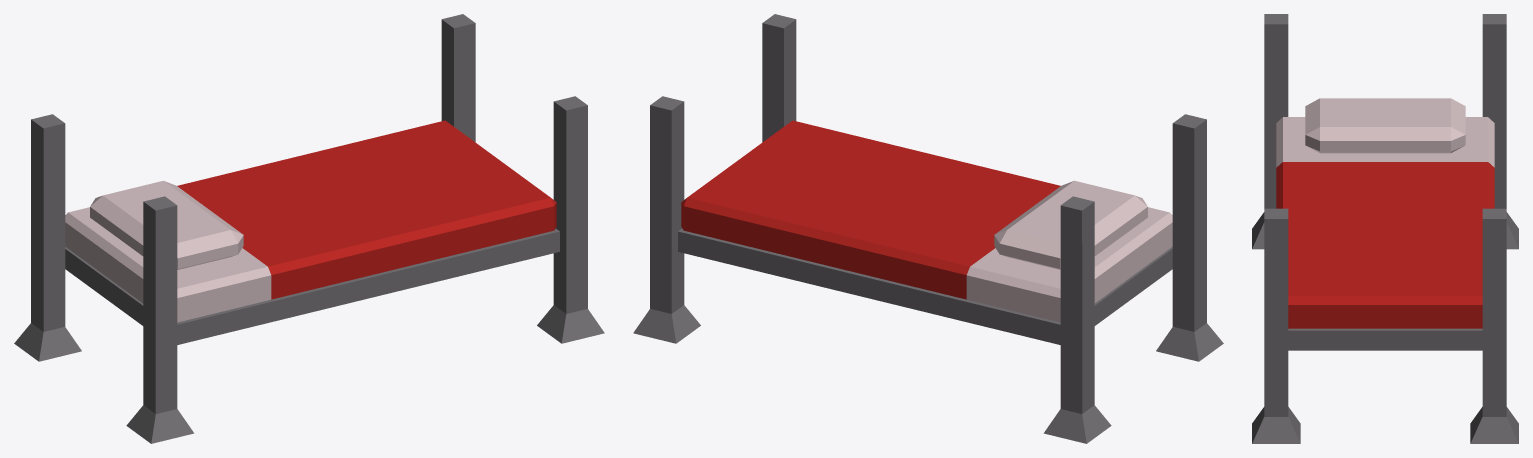
Rendered from scifi_bed.fbx.
3 views of the same model, side by side, from view 1: azimuth 30°, elevation 25°; view 2: azimuth 150°, elevation 25°; view 3: azimuth 270°, elevation 25° (orthographic). The views are drawn at different scales.
Parts seen in each view (by area): view 1: Cube.054; view 2: Cube.054; view 3: Cube.054.
Boxes of the visible parts, box(x1,y1,x2,y2) form: Cube.054: box(14, 14, 604, 443); Cube.054: box(633, 14, 1223, 443); Cube.054: box(1252, 14, 1518, 443).
Size of the model in its own units: 2.1 by 1 by 1.1.
